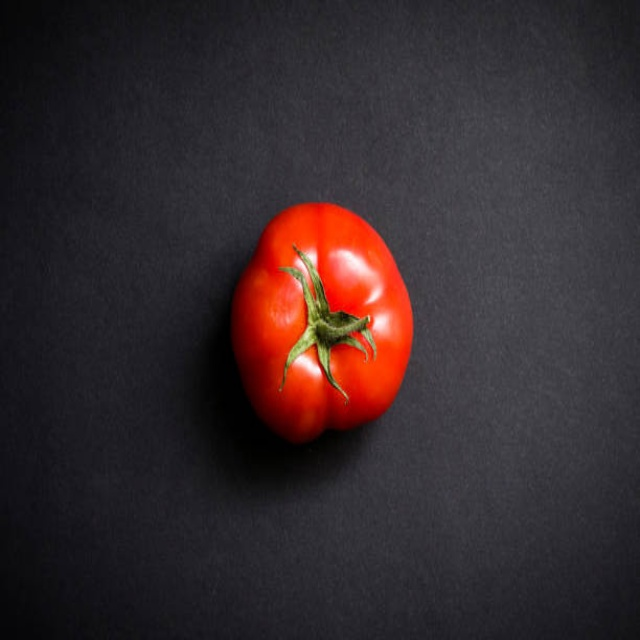tomato: (243, 194, 415, 444)
